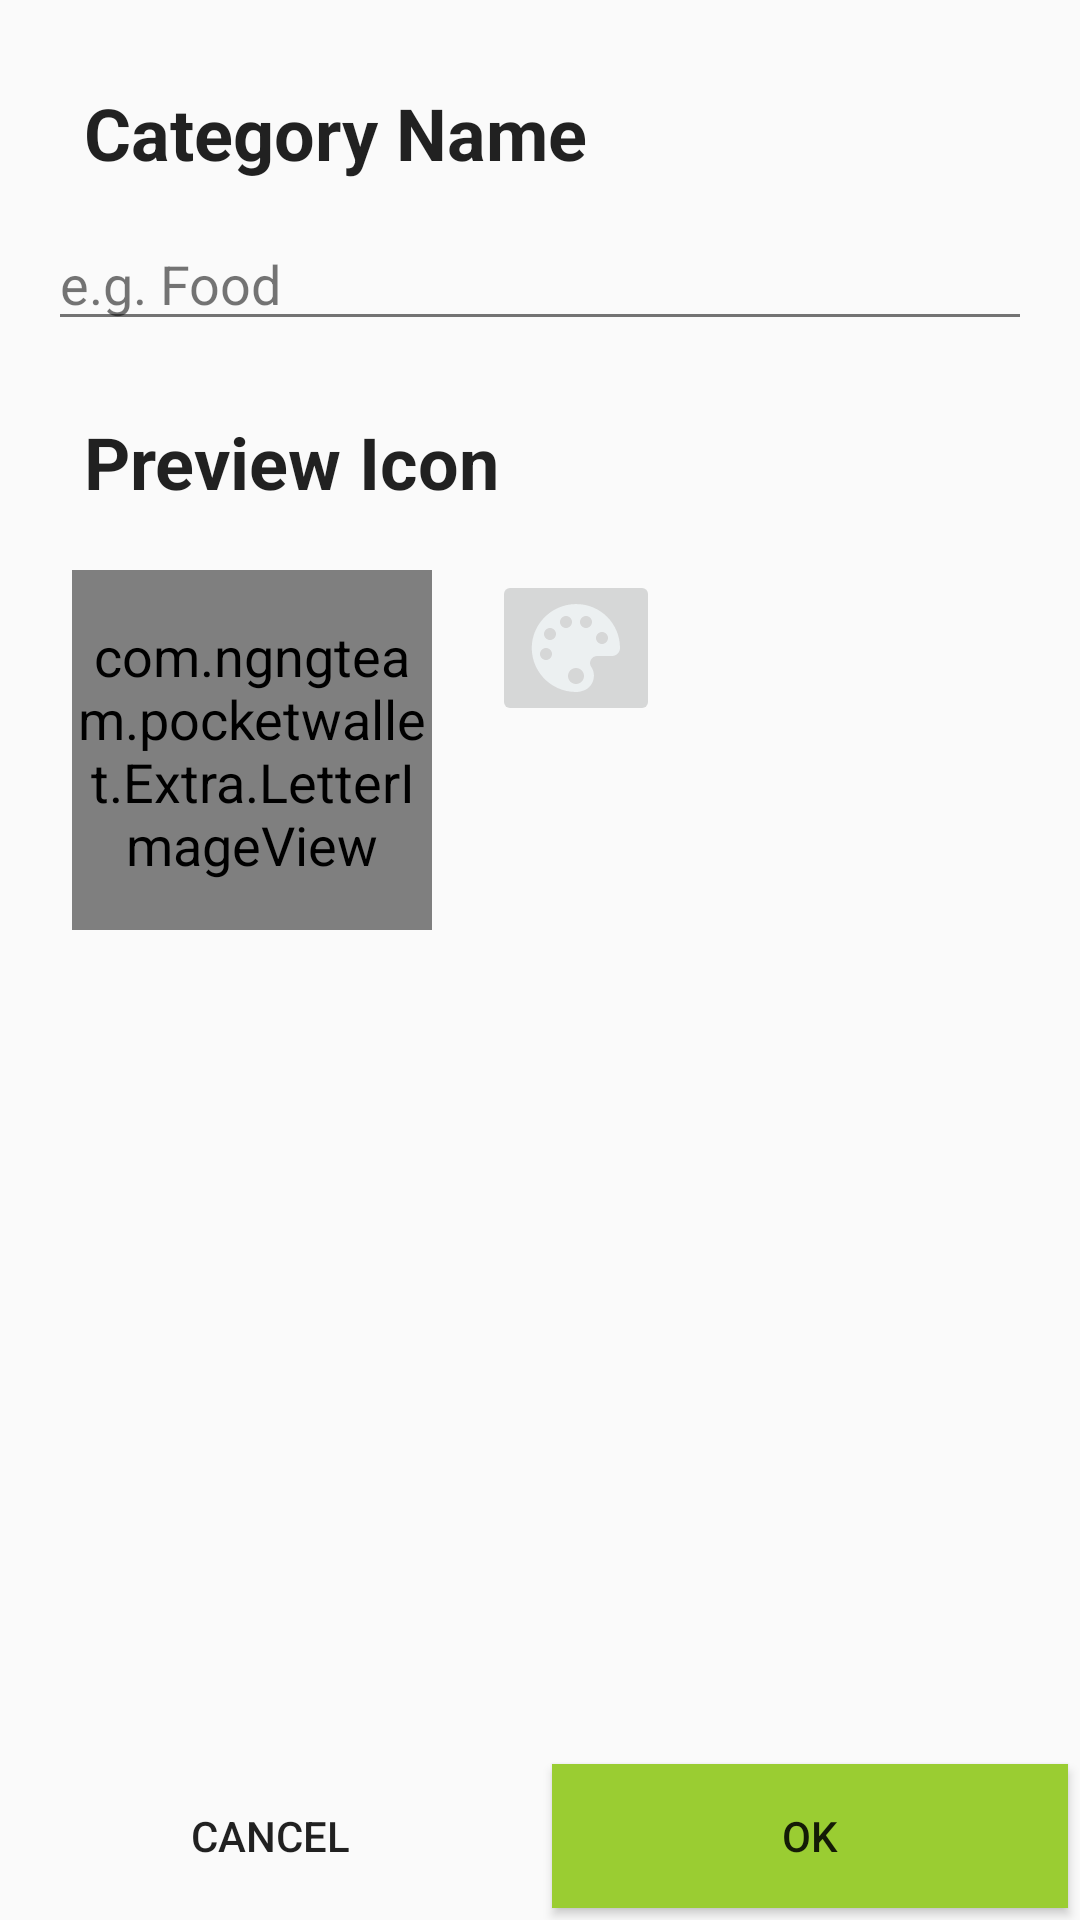

Icons on this 1080px×1920px Android screen, each with its box as (x1=x1, y1=y1, x2=x2, y2=y2):
palette: (x1=504, y1=588, x2=648, y2=708)
